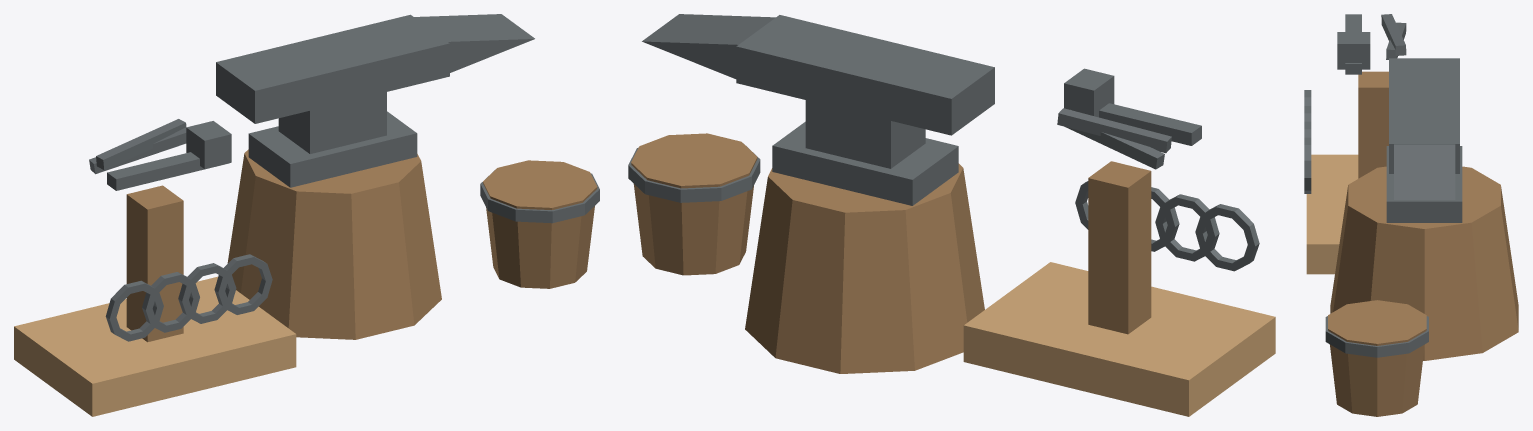
Rendered from farriers-anvil.glb.
3 renders of one model, left to right at view 1: azimuth 30°, elevation 25°; view 2: azimuth 150°, elevation 25°; view 3: azimuth 270°, elevation 25°, orthographic. The views are drawn at different scales.
Visible parts, largest first — view 1: farriers-anvil; view 2: farriers-anvil; view 3: farriers-anvil.
Boxes of the visible parts, x1,y1,x2,y2 form: farriers-anvil: (14, 14, 599, 416); farriers-anvil: (628, 14, 1275, 416); farriers-anvil: (1304, 14, 1518, 416).
Size of the model in its own units: 2.38 by 1.02 by 0.9095.
